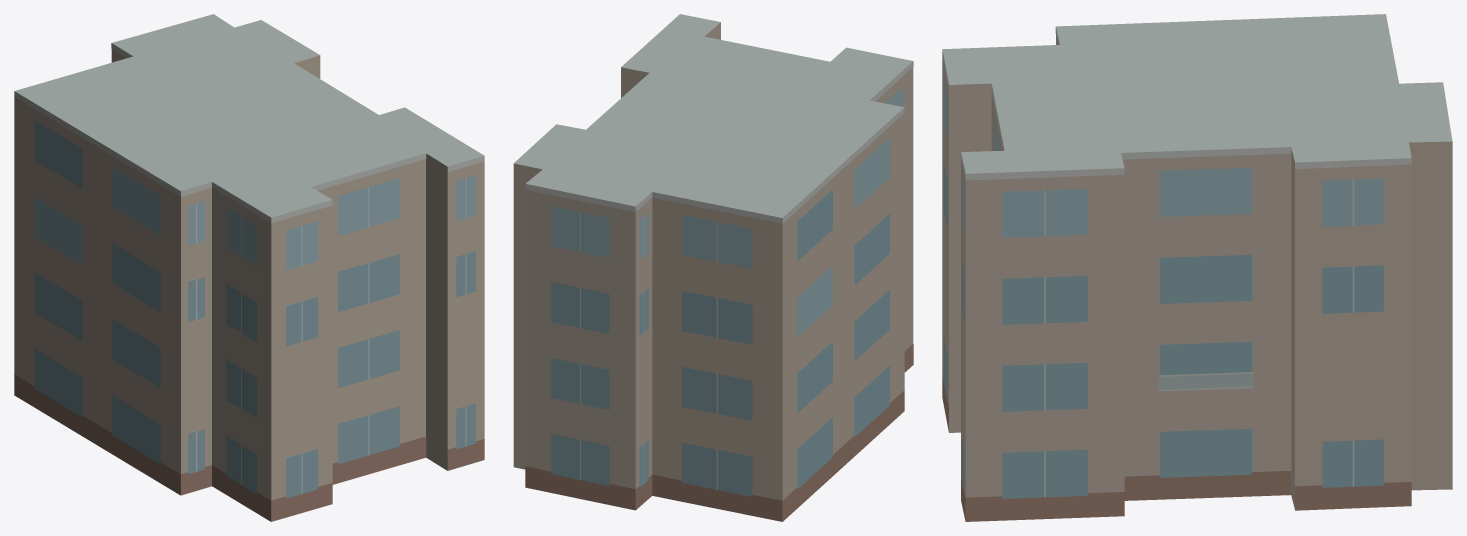
File: survey-upis-32750123.glb
3 views of the same model, side by side, from view 1: azimuth 30°, elevation 25°; view 2: azimuth 150°, elevation 25°; view 3: azimuth 270°, elevation 25° (orthographic). The views are drawn at different scales.
Visible parts, largest first — view 1: survey-upis-32750123.tmp; view 2: survey-upis-32750123.tmp; view 3: survey-upis-32750123.tmp.
Part boxes in pixels (x1,y1,x2,y2): survey-upis-32750123.tmp: [14, 14, 484, 521]; survey-upis-32750123.tmp: [513, 14, 913, 521]; survey-upis-32750123.tmp: [942, 14, 1452, 521].
Size of the model in its own units: 12.72 by 12.9 by 17.15.
